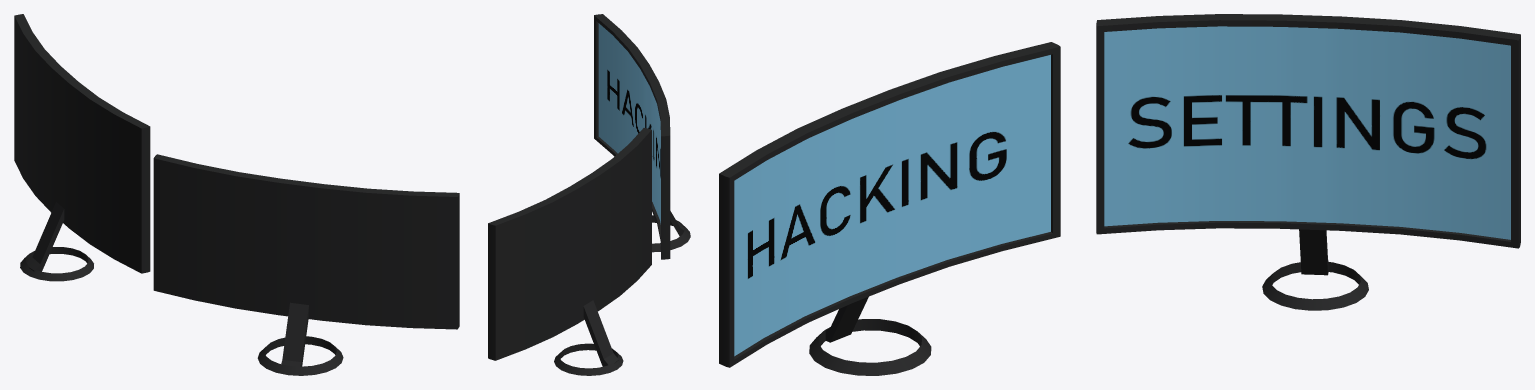
File: NewMonitors.fbx
The picture shows the model from 3 angles, left to right: view 1: azimuth 30°, elevation 25°; view 2: azimuth 150°, elevation 25°; view 3: azimuth 270°, elevation 25°; orthographic projection. The views are drawn at different scales.
Parts seen in each view (by area): view 1: monitor2, monitor1; view 2: monitor1, monitor2; view 3: monitor1, monitor2.
Boxes of the visible parts, box(x1,y1,x2,y2) form: monitor2: box(153, 154, 459, 375); monitor1: box(14, 14, 150, 281); monitor1: box(488, 128, 651, 375); monitor2: box(594, 14, 690, 259); monitor1: box(1096, 14, 1520, 310); monitor2: box(719, 42, 1060, 375).
Size of the model in its own units: 89.93 by 71.69 by 189.
